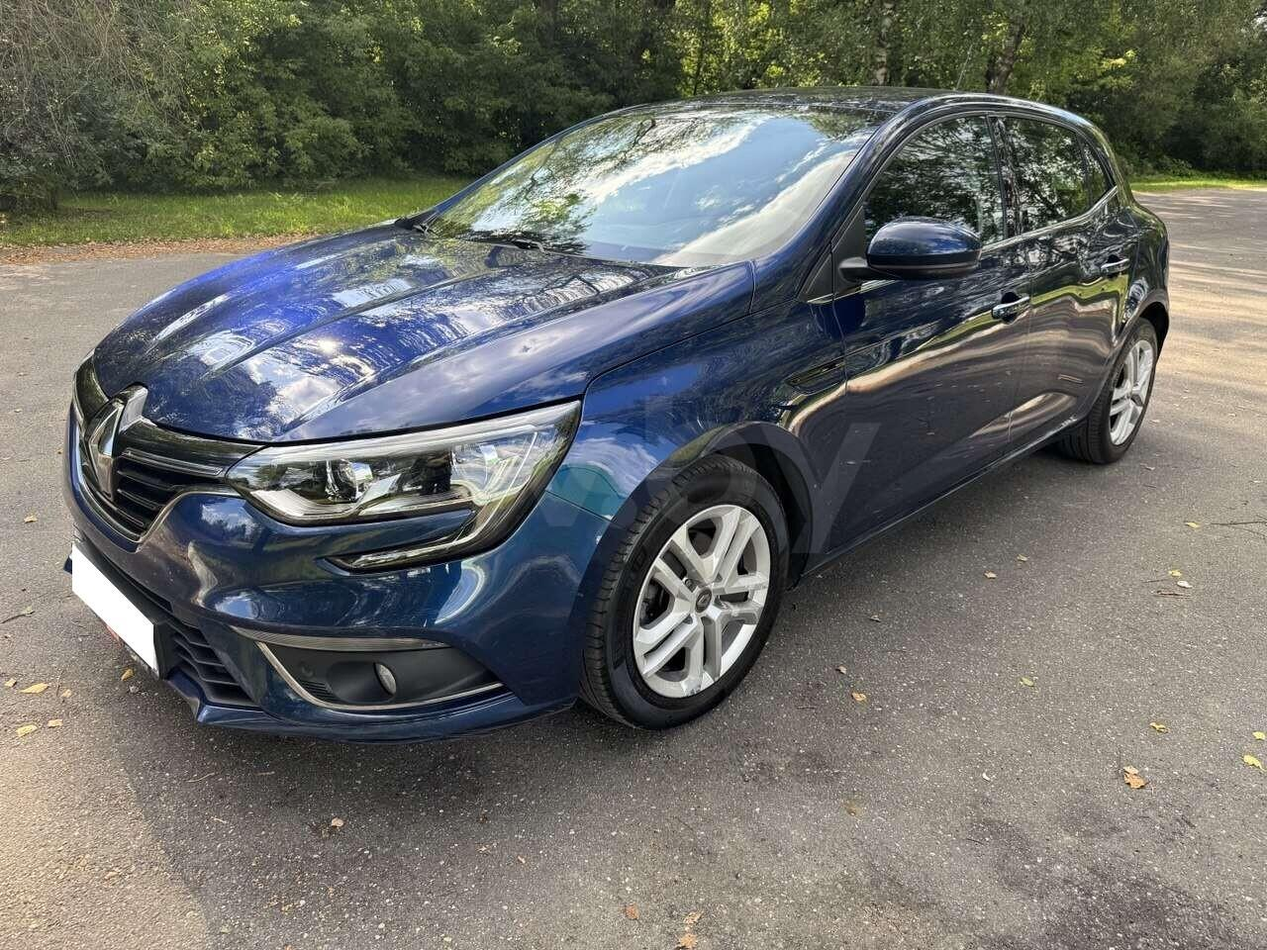Megane_2016-2020: (56, 80, 1174, 752)
